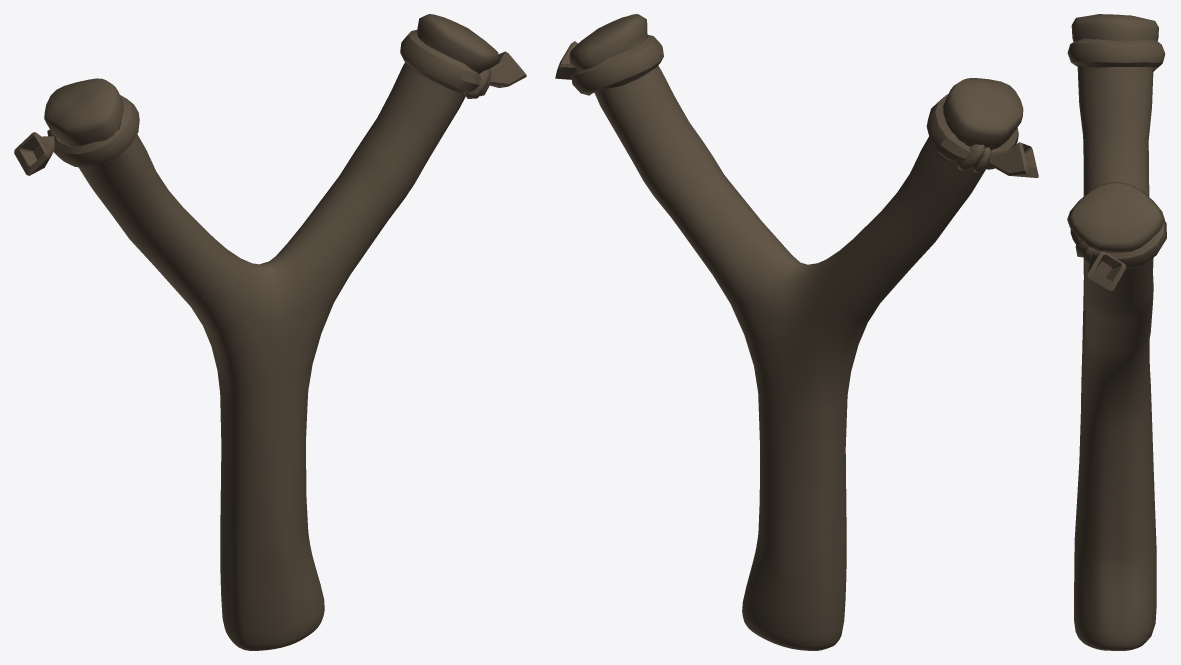
The model's file is Slingshot wood.fbx.
3 renders of one model, left to right at view 1: azimuth 30°, elevation 25°; view 2: azimuth 150°, elevation 25°; view 3: azimuth 270°, elevation 25°, orthographic. The views are drawn at different scales.
Visible parts, largest first — view 1: pasted__pCube5; view 2: pasted__pCube5; view 3: pasted__pCube5.
Boxes of the visible parts, left/top/right/bottom form: pasted__pCube5: left=14, top=14, right=526, bottom=650; pasted__pCube5: left=555, top=14, right=1038, bottom=650; pasted__pCube5: left=1067, top=14, right=1166, bottom=650.
Bounding box in the file's own units: 5.46 × 6.43 × 1.05.
